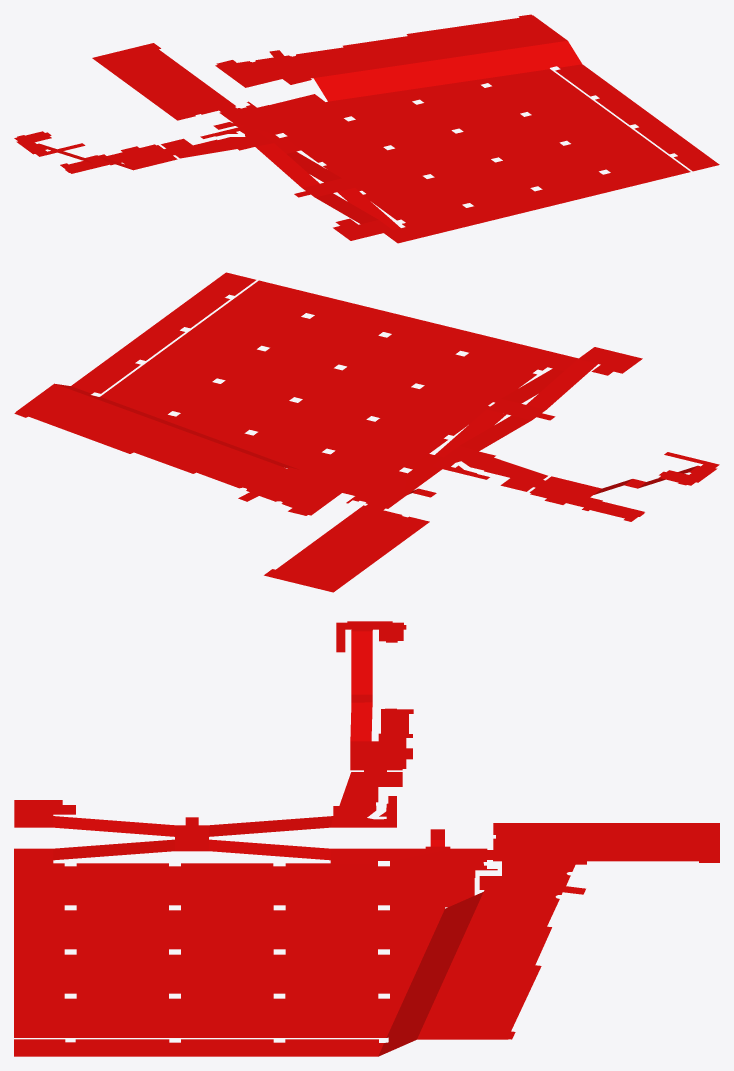
Rendered from navmesh.glb.
3 renders of one model, top to bottom at view 1: azimuth 30°, elevation 25°; view 2: azimuth 150°, elevation 25°; view 3: azimuth 270°, elevation 25°, orthographic. The views are drawn at different scales.
Parts seen in each view (by area): view 1: PAKAPIENI.001; view 2: PAKAPIENI.001; view 3: PAKAPIENI.001.
Boxes of the visible parts, x1=… form: PAKAPIENI.001: x1=14, y1=14, x2=719, y2=243; PAKAPIENI.001: x1=14, y1=272, x2=719, y2=592; PAKAPIENI.001: x1=14, y1=621, x2=719, y2=1056.
Bounding box in the file's own units: 61.66 × 5.8 × 50.75.
